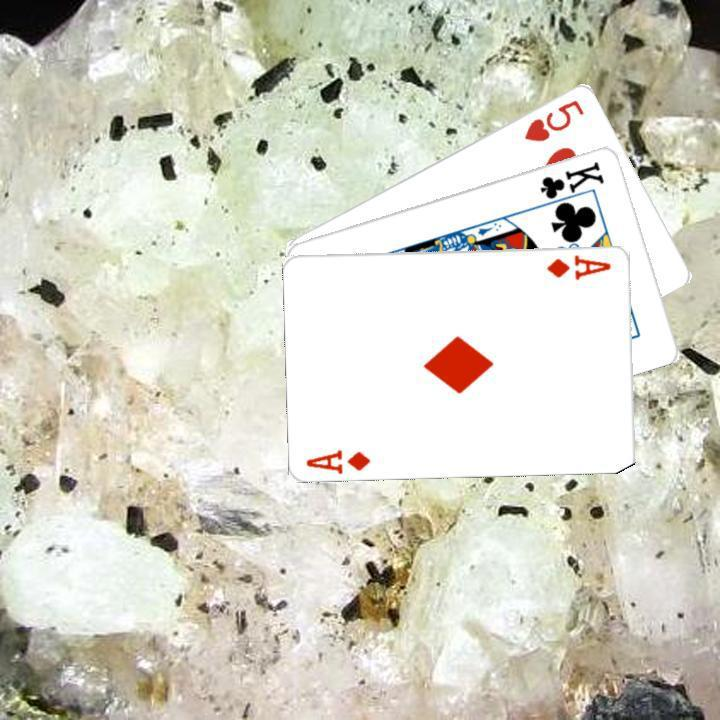5: (520, 94, 586, 144)
A: (543, 250, 613, 281), (302, 444, 372, 474)
K: (534, 156, 606, 210)
